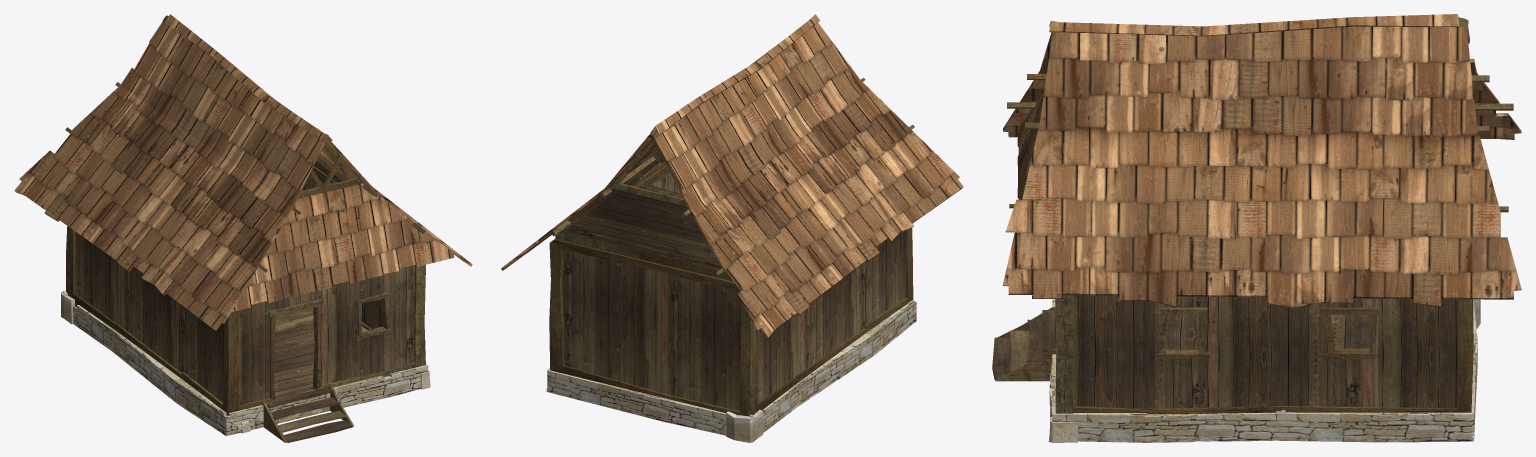
The model's file is house.glb.
3 views of the same model, side by side, from view 1: azimuth 30°, elevation 25°; view 2: azimuth 150°, elevation 25°; view 3: azimuth 270°, elevation 25° (orthographic). The views are drawn at different scales.
Parts seen in each view (by area): view 1: Roof, WoodCabin; view 2: Roof, WoodCabin; view 3: Roof, WoodCabin.
Part boxes in pixels (box(x1,y1,x2,y2)): Roof: box(14, 14, 472, 330); WoodCabin: box(61, 163, 430, 442); Roof: box(501, 14, 963, 338); WoodCabin: box(546, 162, 916, 442); Roof: box(1003, 14, 1521, 307); WoodCabin: box(992, 295, 1480, 442).
Bounding box in the file's own units: 66.63 × 66.72 × 87.92.
2 materials, 2 textured.
